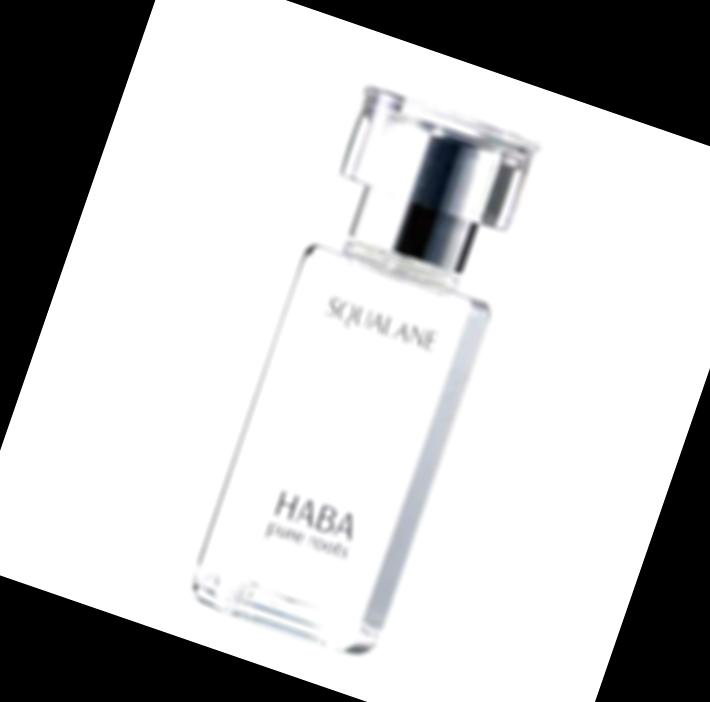cosmetic: (183, 80, 550, 661)
